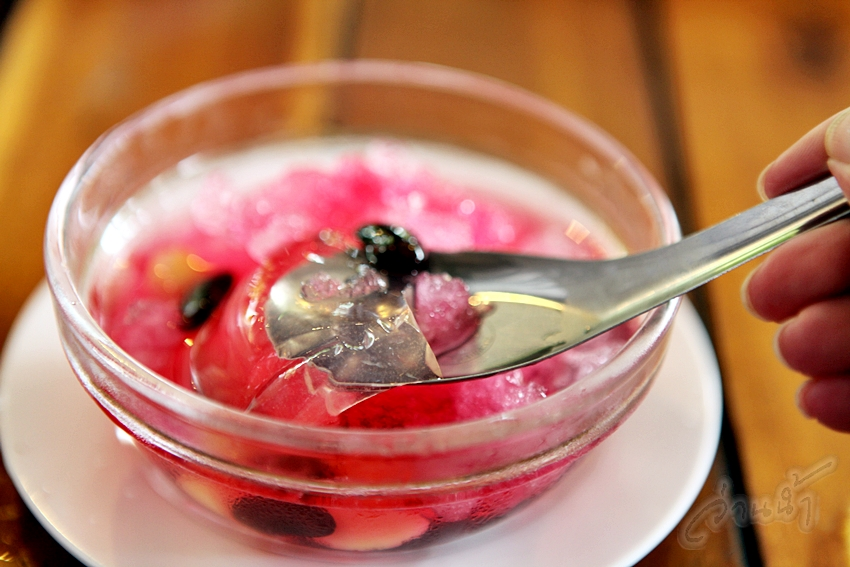O-eo: (47, 60, 694, 567)
